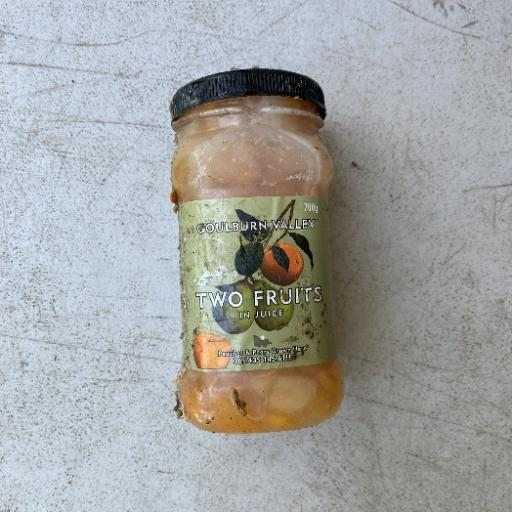Plastic: (166, 65, 347, 435)
